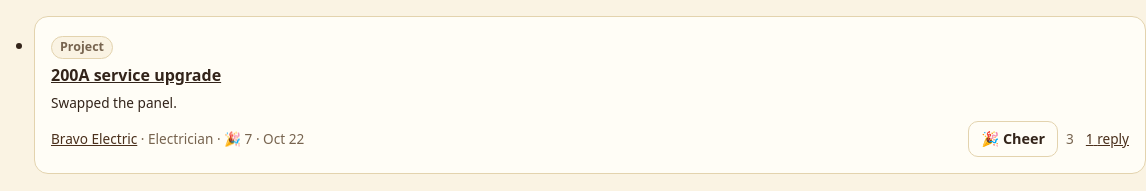
it: post cards › shows the author's banked badge and the post's cheer count, and cheering sends one
Expected: the text titled "Banked cheers — lifetime earned" shows "🎉 7", x1=213 y1=129 x2=252 y2=148
Expected: the text "3" is shown, x1=1066 y1=129 x2=1074 y2=149
Click the button "🎉 Cheer".
click(1013, 139)  # box x1=968 y1=121 x2=1058 y2=157
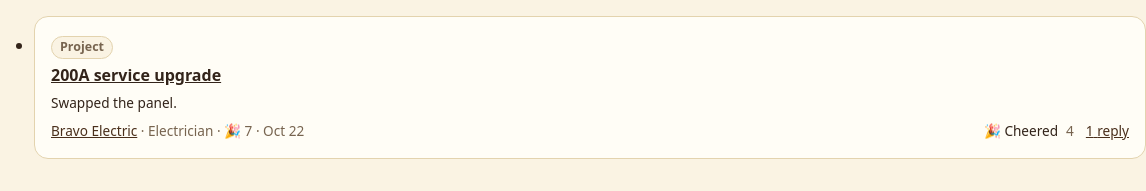
Expected: the text "🎉 Cheered" is shown, x1=984 y1=121 x2=1058 y2=142
Expected: the text "4" is shown, x1=1066 y1=121 x2=1074 y2=142
